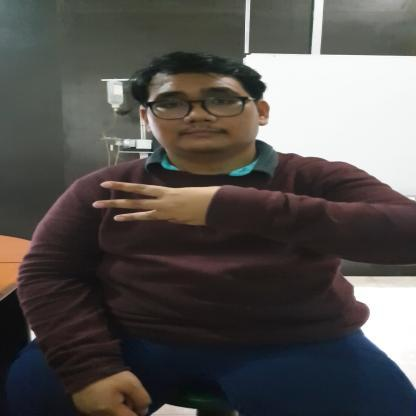E: (90, 180, 216, 227)
